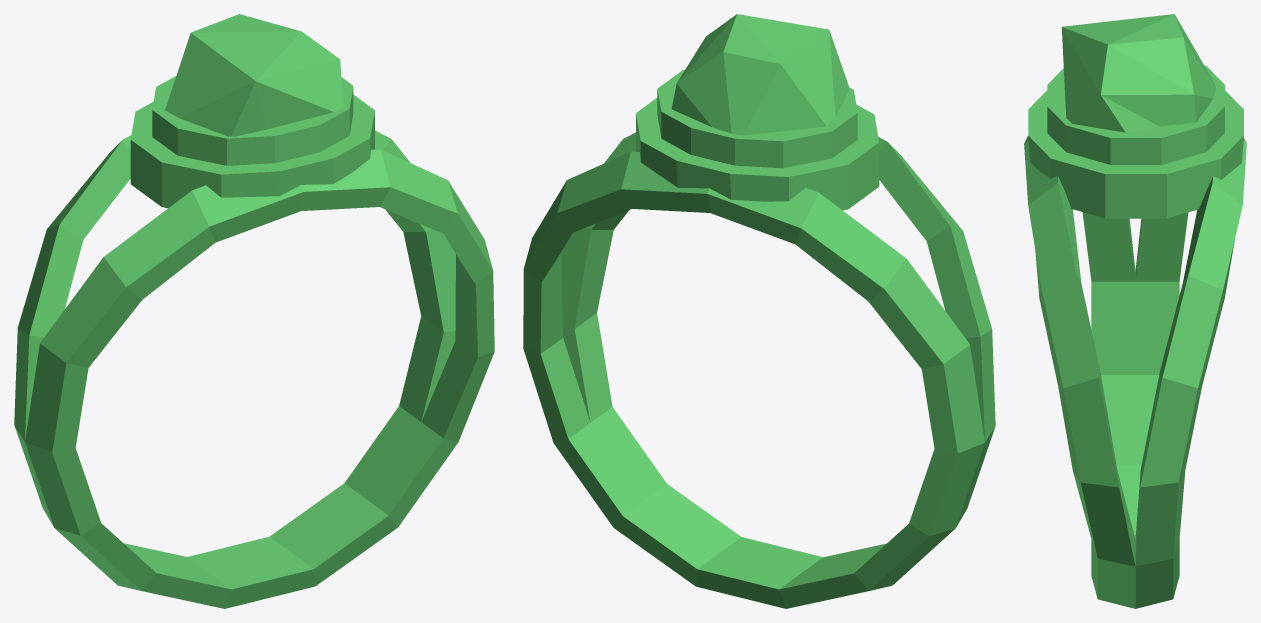
Rendered from anillo4.glb.
3 views of the same model, side by side, from view 1: azimuth 30°, elevation 25°; view 2: azimuth 150°, elevation 25°; view 3: azimuth 270°, elevation 25° (orthographic).
Visible parts, largest first — view 1: Ring6_Torus.010; view 2: Ring6_Torus.010; view 3: Ring6_Torus.010.
Boxes of the visible parts, box(x1,y1,x2,y2) form: Ring6_Torus.010: box(14, 14, 494, 608); Ring6_Torus.010: box(523, 14, 995, 608); Ring6_Torus.010: box(1024, 14, 1246, 608).
Bounding box in the file's own units: 0.6748 × 0.8044 × 0.2911.
